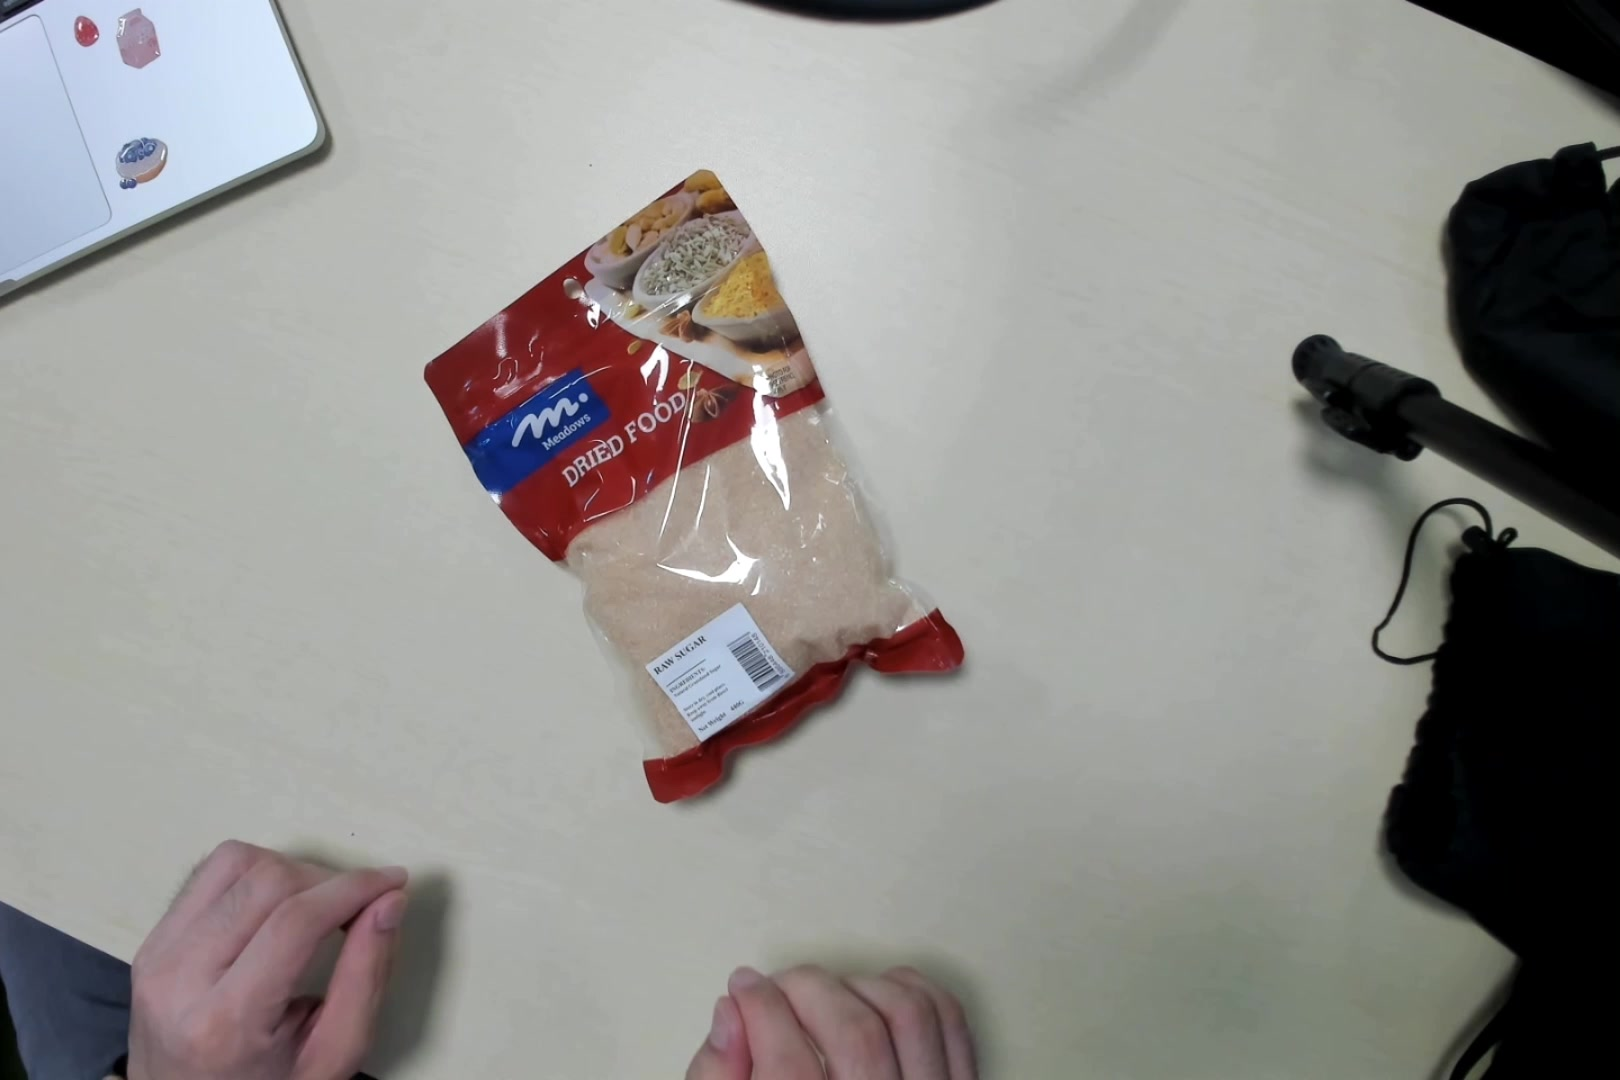Suger_200-299g_Halal_NonHealthy: (429, 175, 991, 791)
